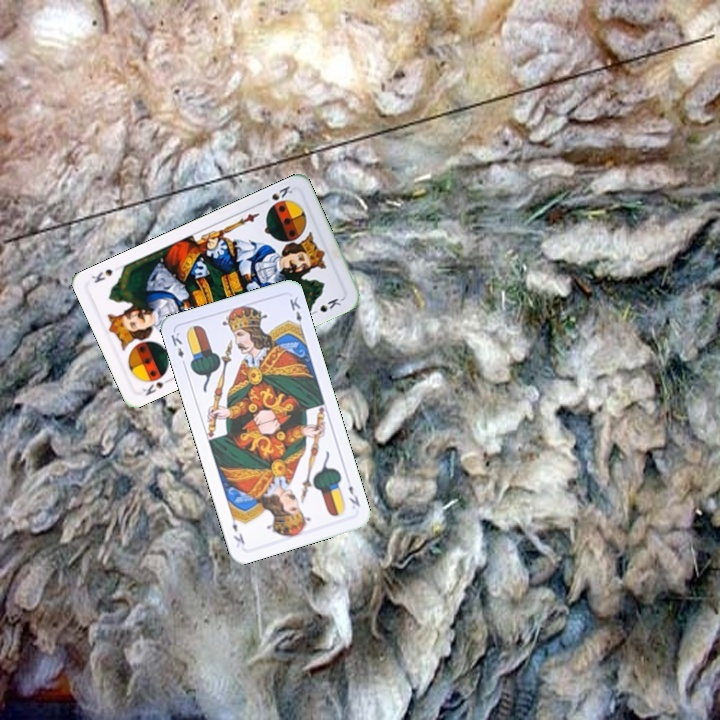EK: (167, 328, 189, 369), (344, 481, 363, 509)
SK: (257, 182, 295, 206), (138, 374, 175, 398)
